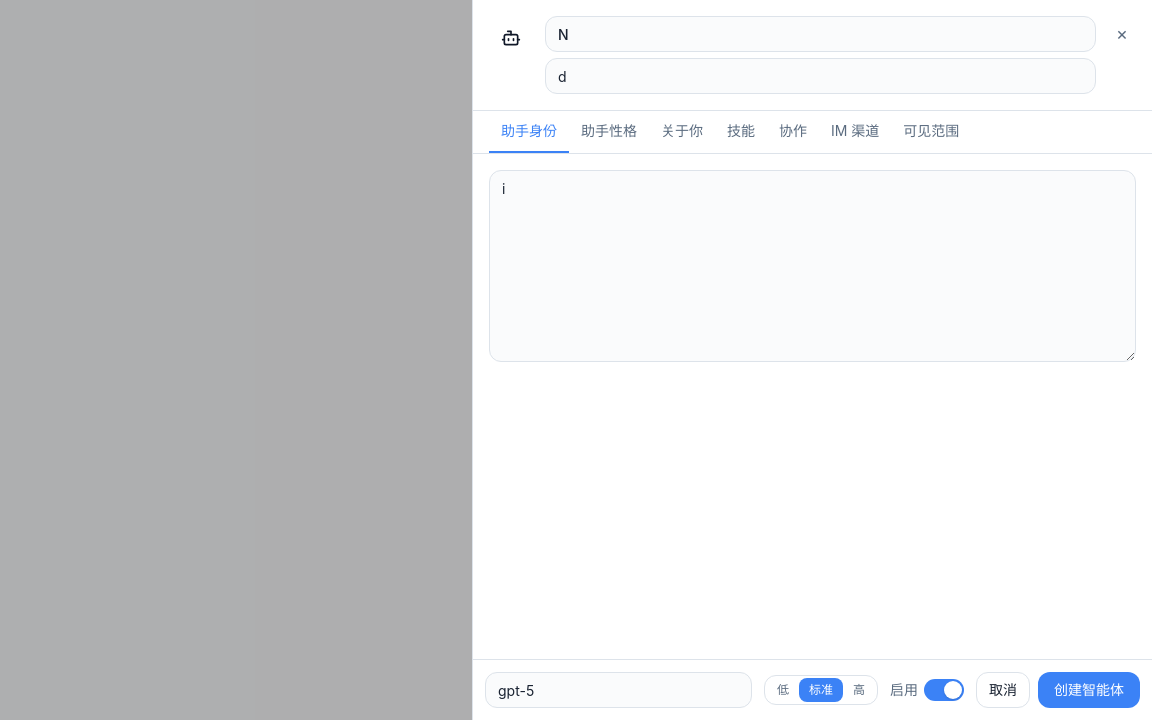
AgentDrawer › roles tab shows chips and save is blocked when all removed
The width and height of the screenshot is (1152, 720).
Replace the text in the field named "Agent 名称" with "X". click: [821, 34]
box: [545,16,1096,52]
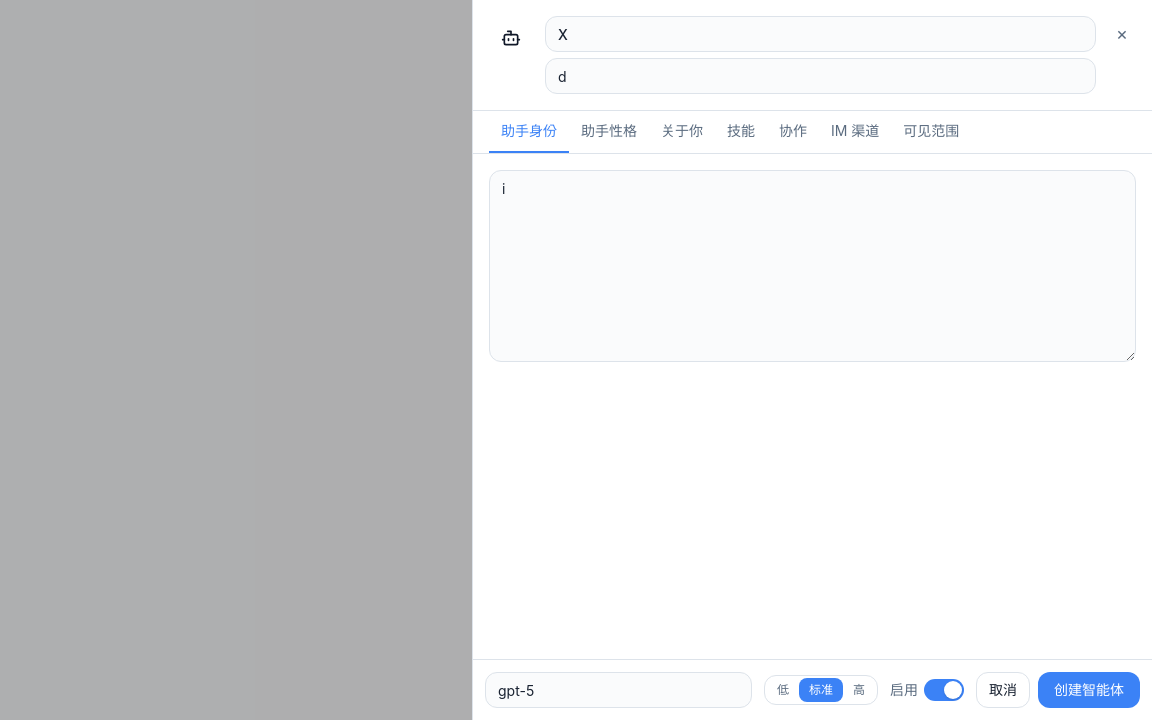
Click the tab "可见范围". click: [931, 132]
box: [891,111,971,153]
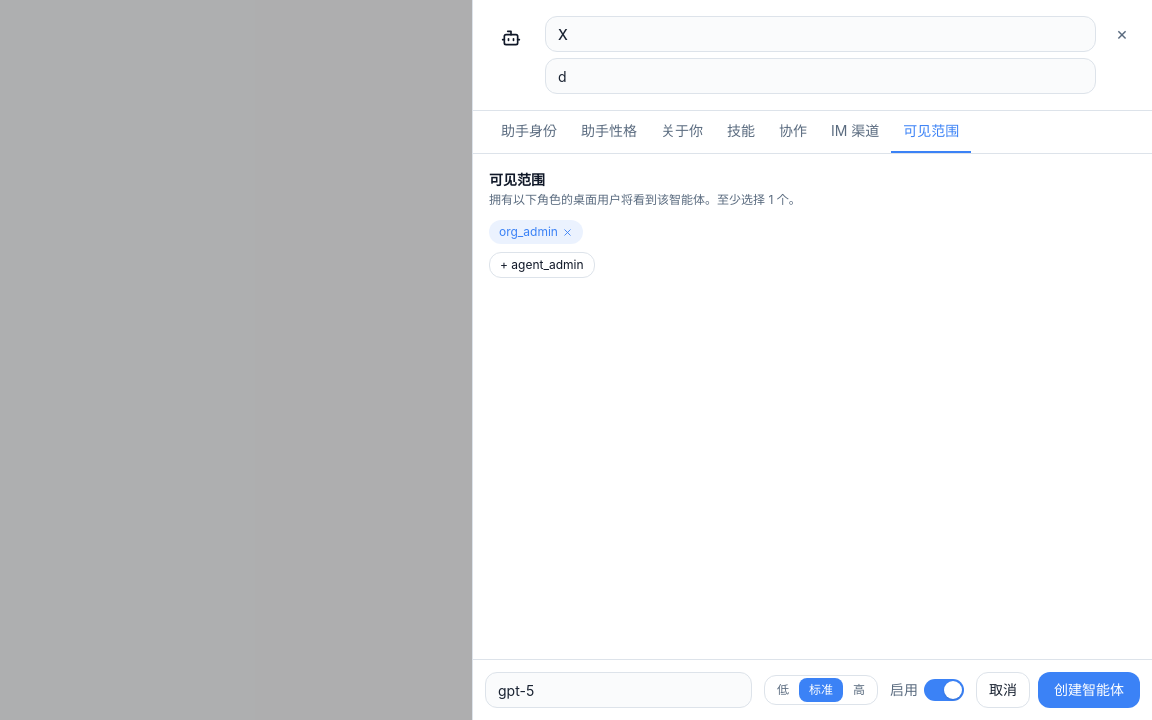
Note: Remove the only role (org_admin) via its chip.
Click the button "org_admin". click: [536, 232]
box: [489,220,583,244]
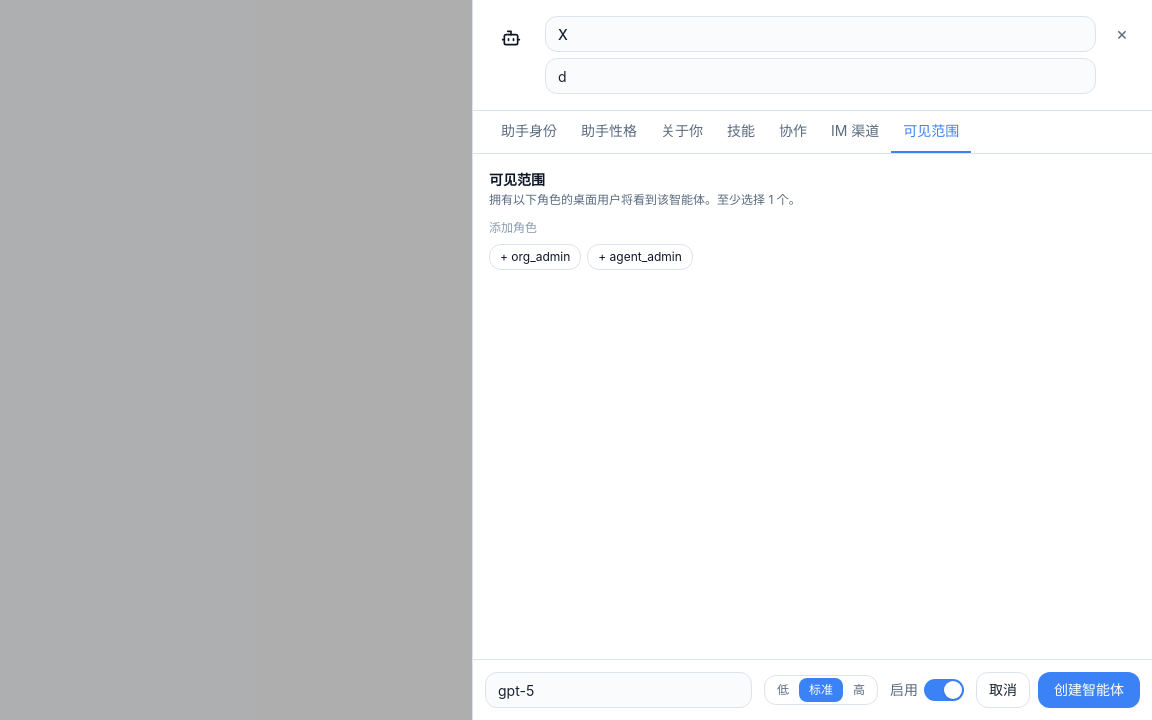
Note: Now click save → should be blocked (roles empty), no POST.
Click the button "创建智能体". click: [1089, 690]
box: [1038,672,1140,708]
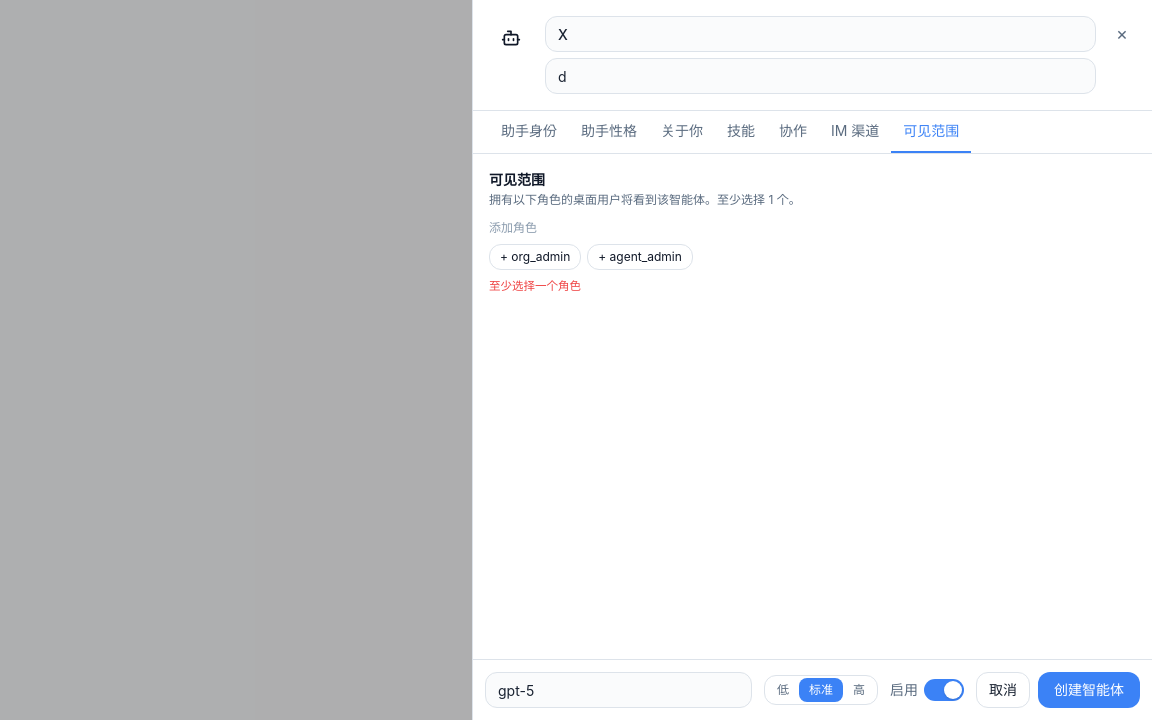
Expected: the text "至少选择一个角色" is shown, [489,279,581,293]
